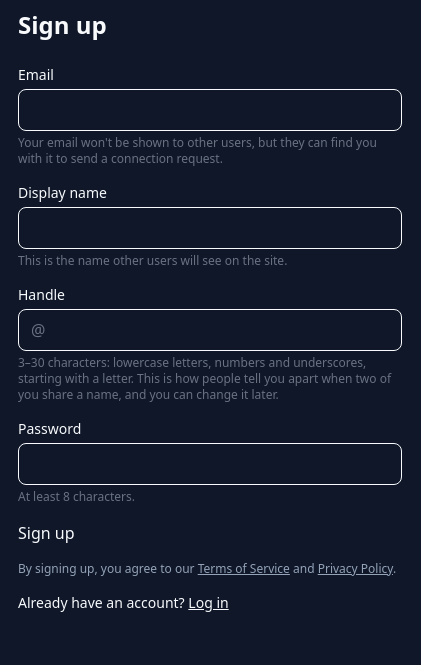
Test case: SignupPage › distinguishes handle_unavailable from email_in_use on the same 409
Type "x@y.com" into the field labelled "Email".
click(210, 110); type("x@y.com")  # box [18, 89, 402, 131]
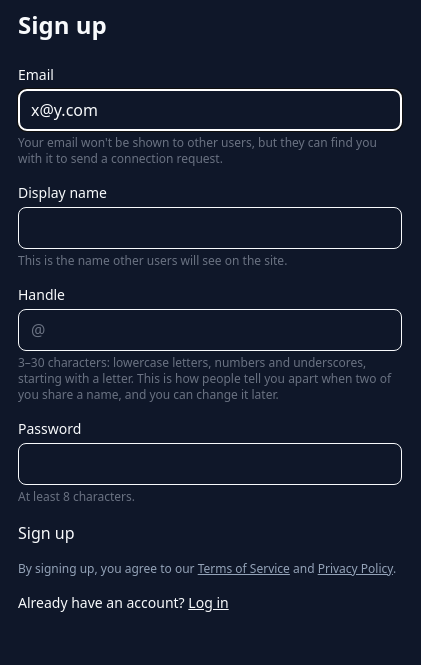
Type "X" into the field labelled "Display name".
click(210, 228); type("X")  # box [18, 207, 402, 249]
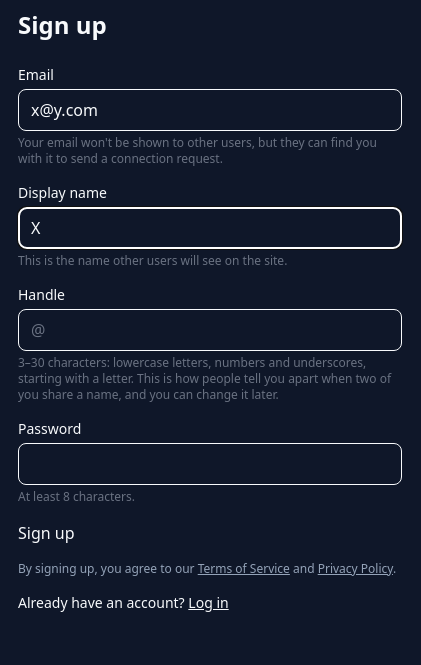
Type "x_user" into the field labelled "Handle".
click(223, 330); type("x_user")  # box [45, 310, 401, 350]
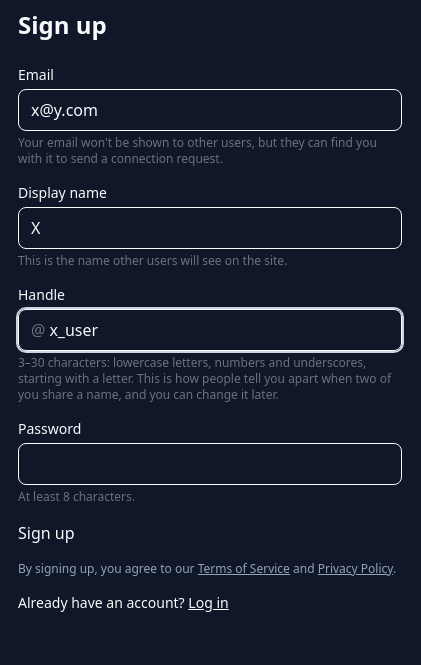
Type "hunter2hunter2" into the password field labelled "Password".
click(210, 464); type("hunter2hunter2")  # box [18, 443, 402, 485]
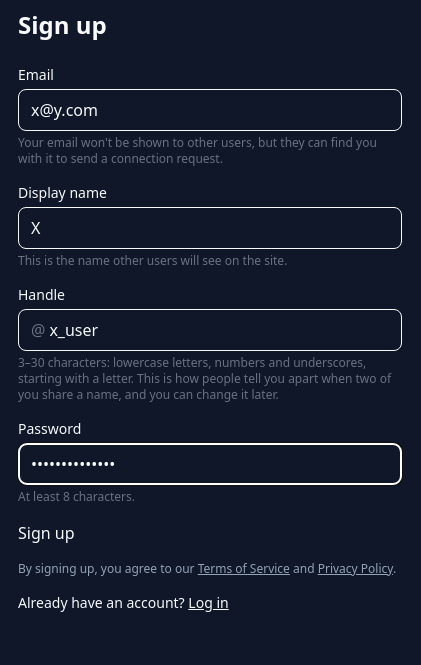
Click the button "Sign up".
click(46, 533)  # box [18, 521, 74, 545]
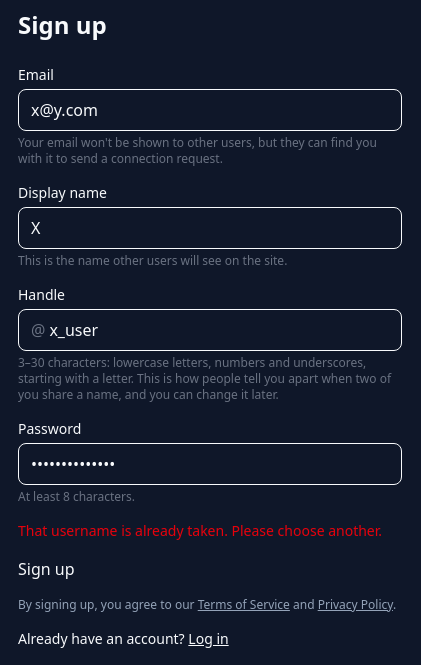
Check: the text "That username is already taken. Please choose another." is shown, box [18, 521, 402, 541]
